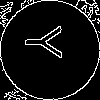Y: (25, 25, 71, 59)
